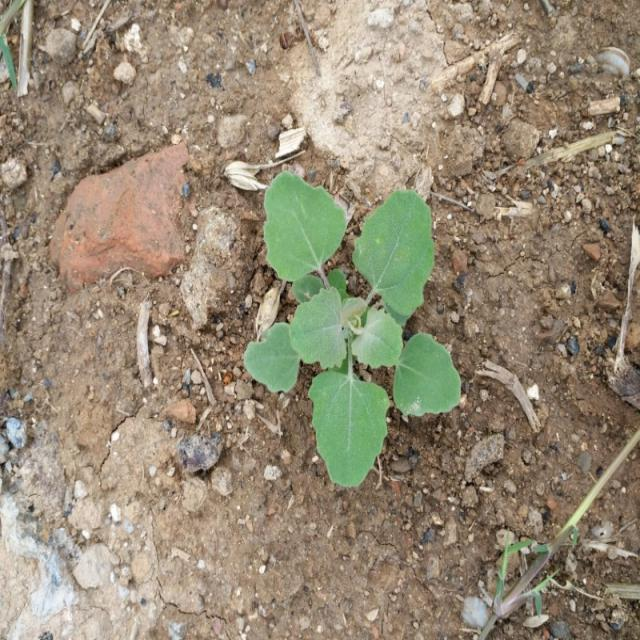ca: (264, 174, 460, 486)
